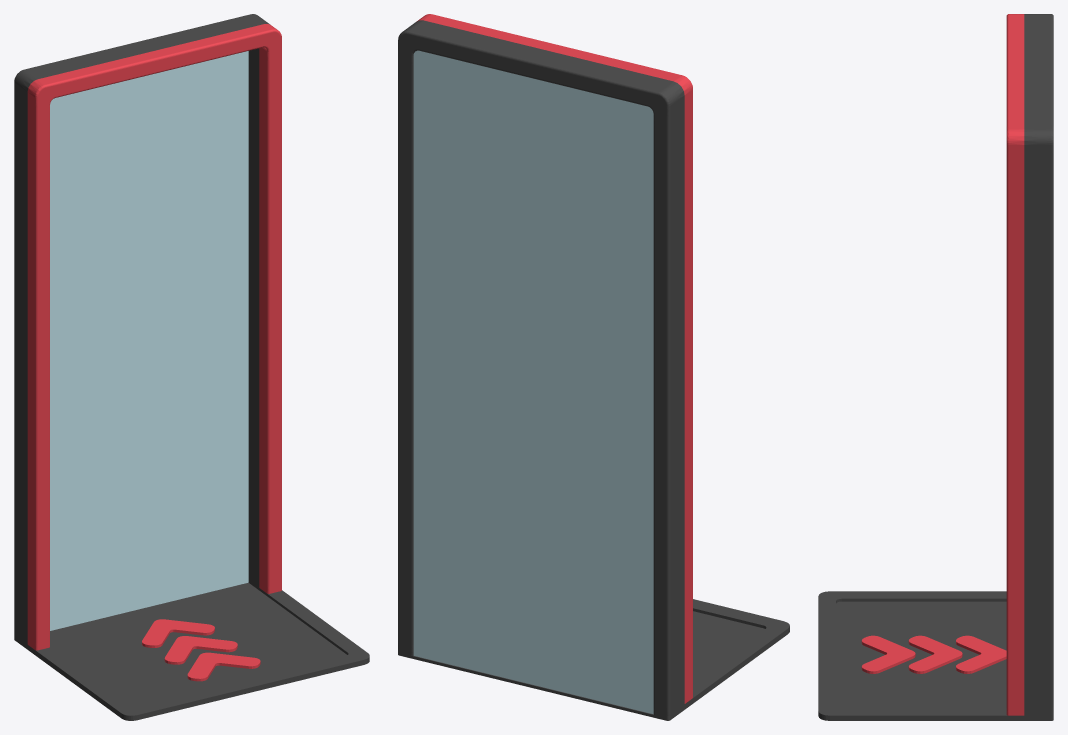
File: door_exit.fbx
The picture shows the model from 3 angles, left to right: view 1: azimuth 30°, elevation 25°; view 2: azimuth 150°, elevation 25°; view 3: azimuth 270°, elevation 25°; orthographic projection. The views are drawn at different scales.
Parts seen in each view (by area): view 1: 개체_4, 개체_5, 개체_7, 개체_6, 개체_3, 개체_1, 개체_2; view 2: 개체_4, 개체_6, 개체_5, 개체_7; view 3: 개체_7, 개체_6, 개체_5, 개체_2, 개체_3, 개체_1.
Part boxes in pixels (bbox=[...]): 개체_4: bbox=[50, 51, 248, 630]; 개체_5: bbox=[27, 24, 281, 650]; 개체_7: bbox=[14, 580, 369, 720]; 개체_6: bbox=[14, 14, 270, 644]; 개체_3: bbox=[187, 652, 260, 681]; 개체_1: bbox=[142, 619, 214, 647]; 개체_2: bbox=[164, 636, 237, 664]; 개체_4: bbox=[413, 50, 653, 714]; 개체_6: bbox=[398, 20, 684, 715]; 개체_5: bbox=[416, 14, 692, 703]; 개체_7: bbox=[398, 599, 789, 720]; 개체_7: bbox=[818, 591, 1053, 720]; 개체_6: bbox=[1024, 14, 1053, 715]; 개체_5: bbox=[1006, 14, 1024, 715]; 개체_2: bbox=[908, 635, 962, 673]; 개체_3: bbox=[861, 635, 915, 673]; 개체_1: bbox=[956, 635, 1006, 673].
Size of the model in its own units: 500 by 1100 by 400.
